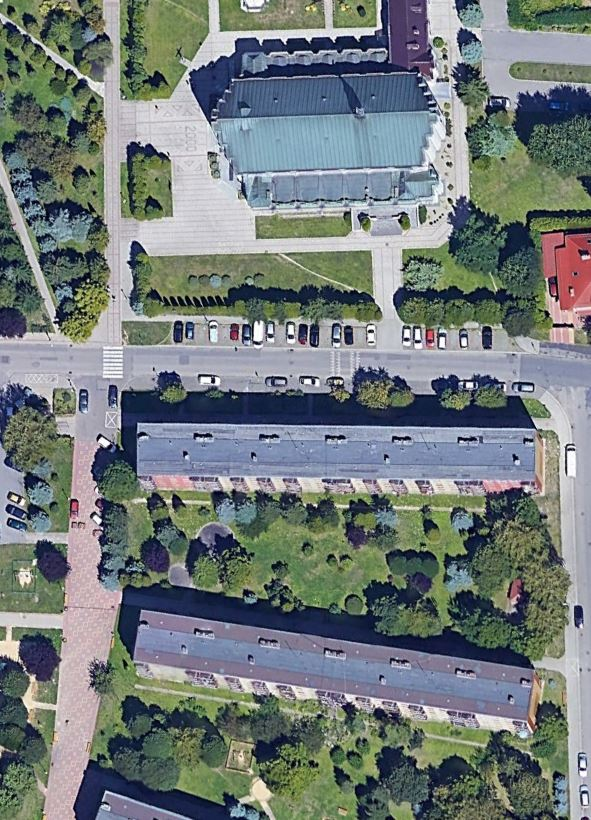block of flats: (129, 608, 545, 742), (130, 418, 550, 501)
church: (207, 38, 458, 228)
